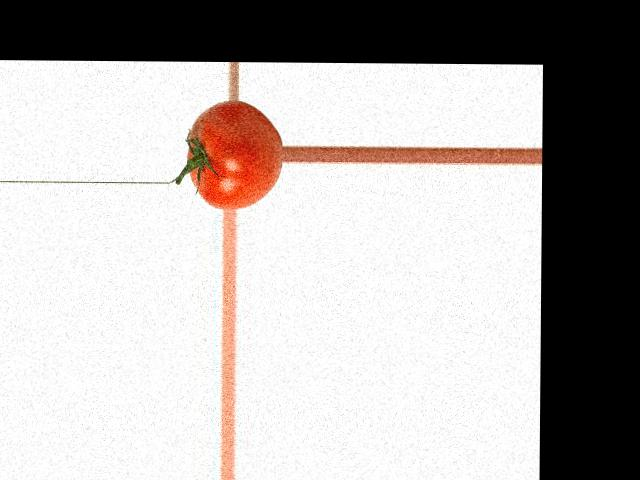tomato: (186, 99, 281, 210)
